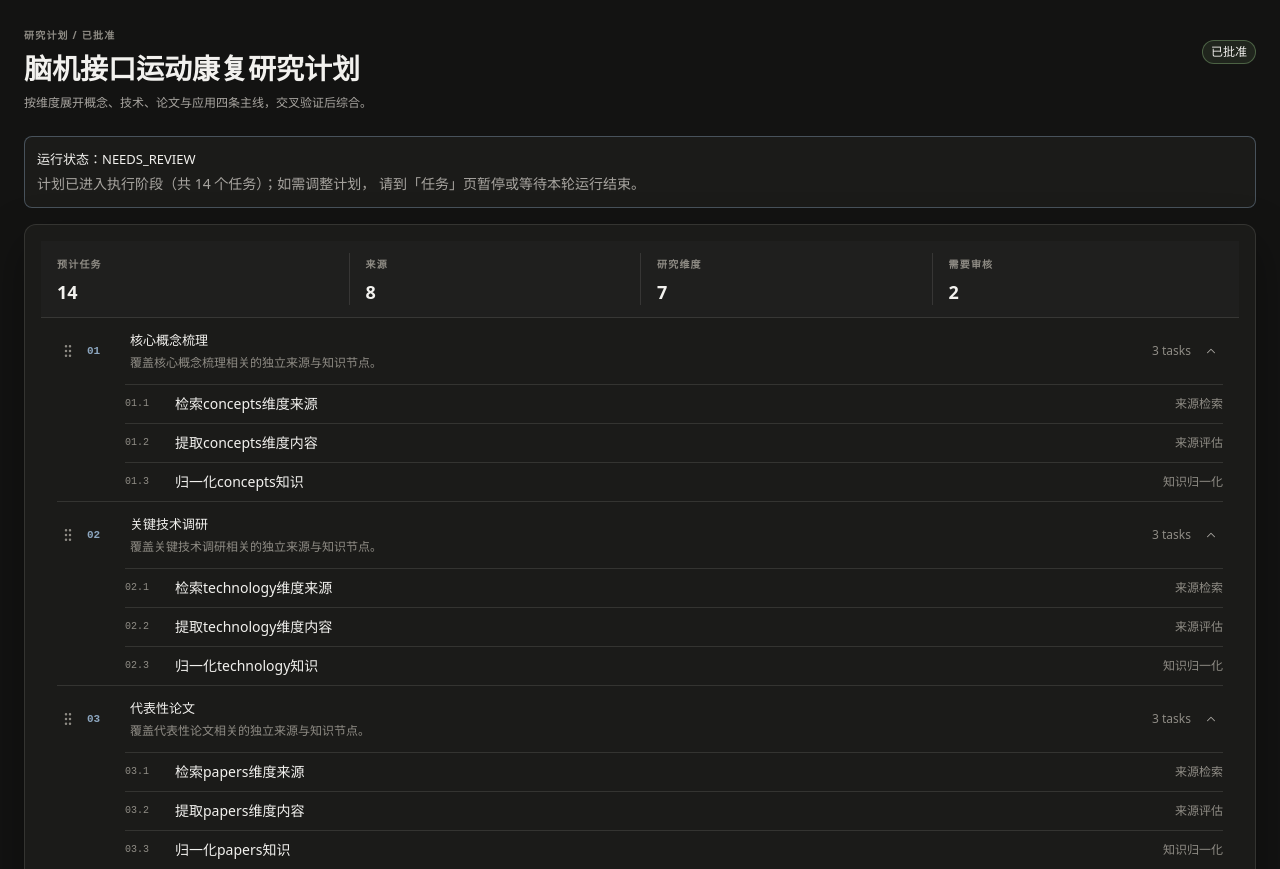
Test: PlanPage prototype alignment › collapses a plan group and hides its task rows
The image size is (1280, 869).
Expected: the text "检索concepts维度来源" is shown, [175, 394, 318, 413]
Click the 1st button named "折叠分组": (1211,351) [1199, 342, 1223, 360]
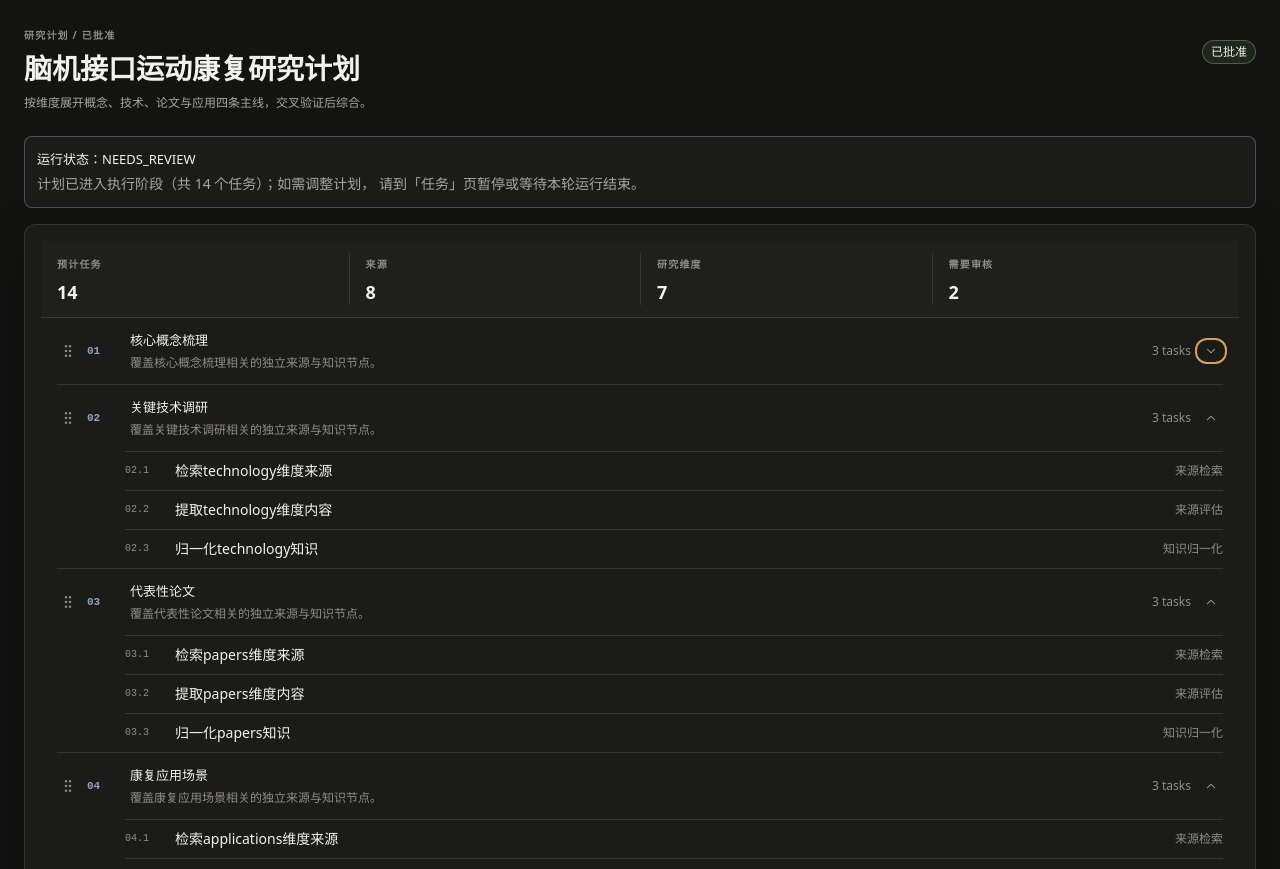
Result: the text "检索concepts维度来源" is gone
Result: the button named "展开分组" is collapsed at [1199, 342, 1223, 360]
